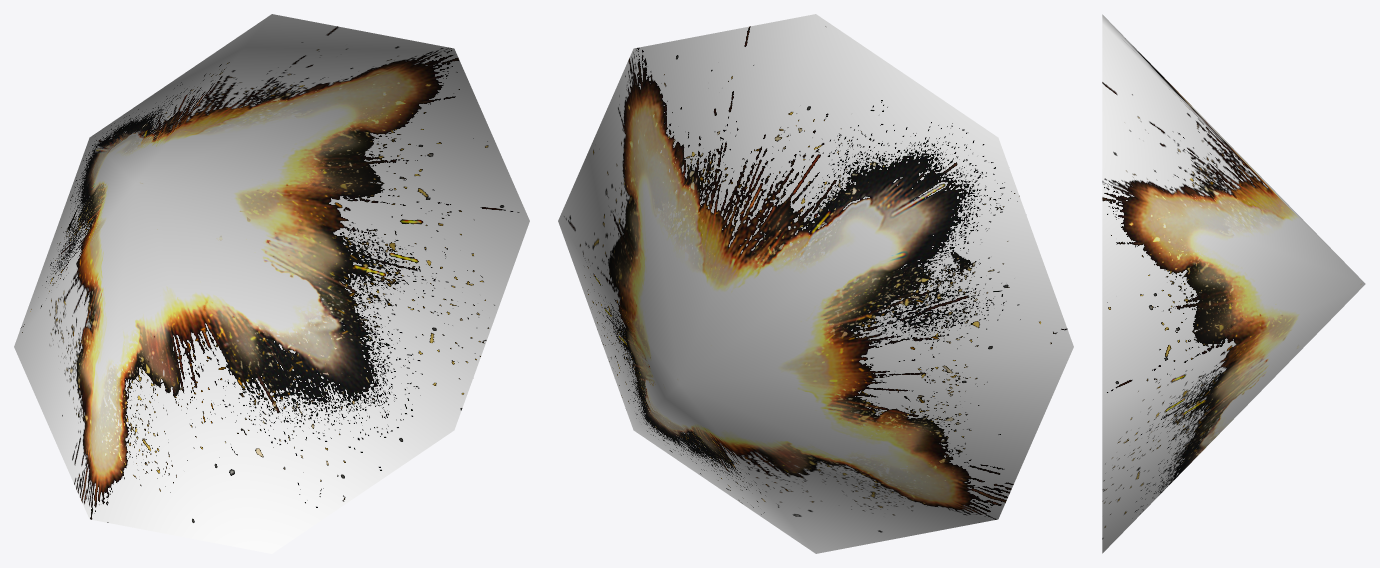
The model's file is muzzle.glb.
3 renders of one model, left to right at view 1: azimuth 30°, elevation 25°; view 2: azimuth 150°, elevation 25°; view 3: azimuth 270°, elevation 25°, orthographic. The views are drawn at different scales.
Parts seen in each view (by area): view 1: muzzlemesh; view 2: muzzlemesh; view 3: muzzlemesh.
Boxes of the visible parts, box(x1,y1,x2,y2) form: muzzlemesh: box(14, 14, 529, 553); muzzlemesh: box(558, 14, 1073, 553); muzzlemesh: box(1102, 14, 1365, 553).
Bounding box in the file's own units: 2 × 2 × 0.9176.
Materials: 1 (1 with a texture image).
